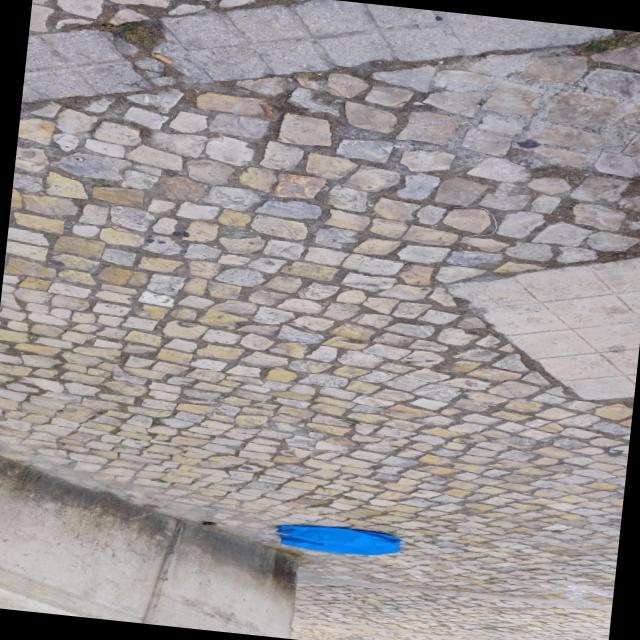less trash: (276, 525, 400, 555)
